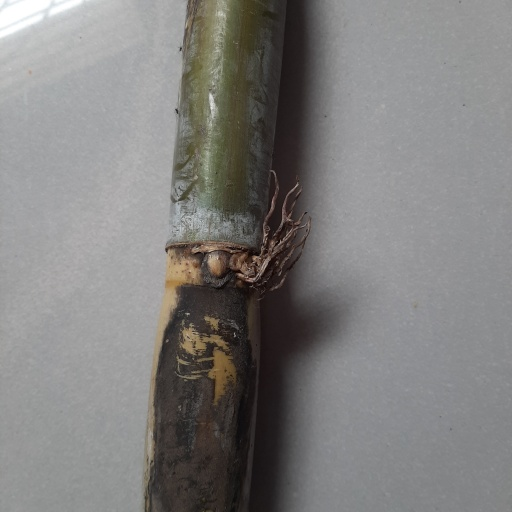Bud: (206, 250, 229, 280)
